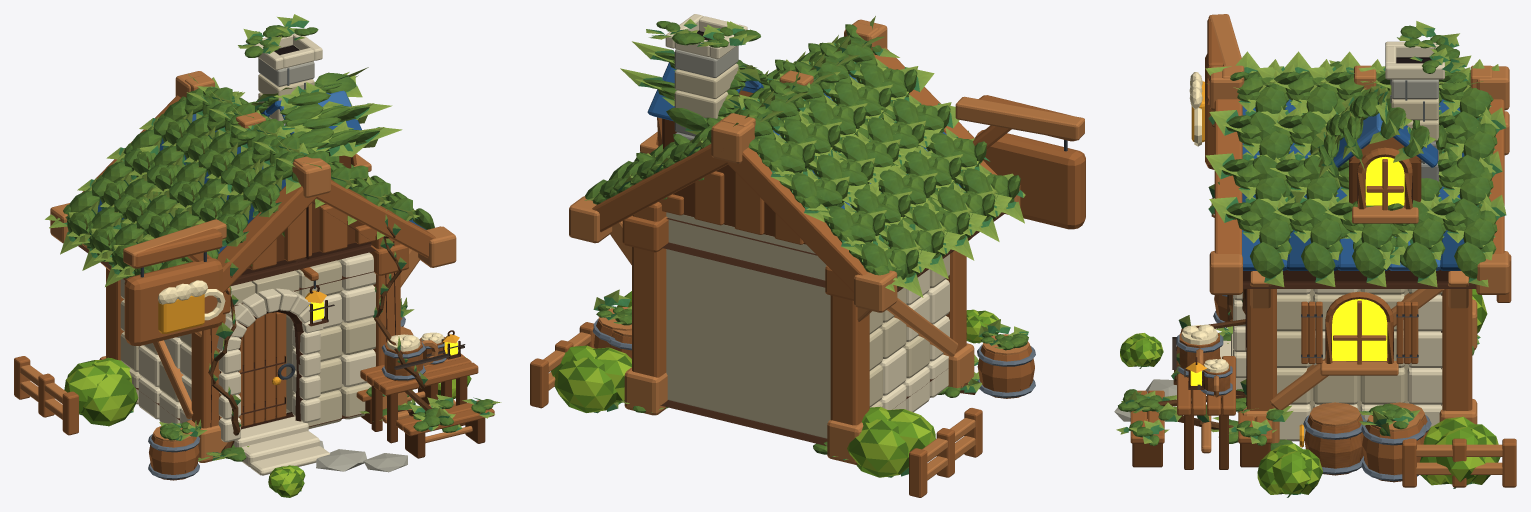
The model's file is tavern.glb.
3 renders of one model, left to right at view 1: azimuth 30°, elevation 25°; view 2: azimuth 150°, elevation 25°; view 3: azimuth 270°, elevation 25°, orthographic. The views are drawn at different scales.
Parts seen in each view (by area): view 1: Carved hanging sign, Carved roof verge, Carved roof verge.002, Corner upright, Leaf cluster.004, Sign bracket, Corner upright.002, Gable tie beam, Barrel staves.001, Foamy mug sign emblem, Limestone entrance step.001, Gable vertical board.003 (+46 smaller); view 2: Cottage walls, Carved hanging sign, Corner upright.003, Corner upright.001, Carved roof verge.001, Carved roof verge.003, Tavern sign cantilever, Leaf cluster.007, Leaf cluster.011, Barrel staves.001, Projecting timber footing.003, Corner upright (+31 smaller); view 3: Corner upright.003, Corner upright.002, Warm arched window.001, Carved roof verge.002, Roof eave.001, Barrel staves.003, Barrel staves.002, Side wall diagonal.001, Chunky roof joinery.002, Side limestone block.013, Warm arched window, Side limestone block.015 (+85 smaller).
Part boxes in pixels (x1,y1,x2,y2): Carved hanging sign: (124,258,222,346); Carved roof verge: (217,186,317,293); Carved roof verge.002: (316,179,435,257); Corner upright: (191,314,225,428); Leaf cluster.004: (82,374,138,426); Sign bracket: (132,228,222,268); Corner upright.002: (371,234,400,366); Gable tie beam: (230,242,375,286); Barrel staves.001: (149,433,199,480); Foamy mug sign emblem: (158,294,204,333); Limestone entrance step.001: (241,431,319,466); Gable vertical board.003: (319,204,347,252); Cottage walls: (666,212,830,438); Carved hanging sign: (976,129,1085,229); Corner upright.003: (632,202,666,377); Corner upright.001: (830,295,869,425); Carved roof verge.001: (727,147,868,292); Carved roof verge.003: (592,144,727,232); Tavern sign cantilever: (955,96,1084,140); Leaf cluster.007: (847,419,909,477); Leaf cluster.011: (554,357,616,412); Barrel staves.001: (977,345,1034,398); Projecting timber footing.003: (624,367,667,415); Corner upright: (946,250,966,353); Corner upright.003: (1442,289,1472,410); Corner upright.002: (1247,289,1276,410); Warm arched window.001: (1332,299,1387,360); Carved roof verge.002: (1214,99,1242,254); Roof eave.001: (1243,270,1476,288); Barrel staves.003: (1304,415,1363,475); Barrel staves.002: (1362,420,1424,482); Side wall diagonal.001: (1270,289,1444,409); Chunky roof joinery.002: (1209,251,1242,294); Side limestone block.013: (1360,367,1405,404); Warm arched window: (1365,157,1404,205); Side limestone block.015: (1407,367,1442,404).
Size of the model in its own units: 4.59 by 4.03 by 3.73.
Materials: 43 (10 with a texture image).
